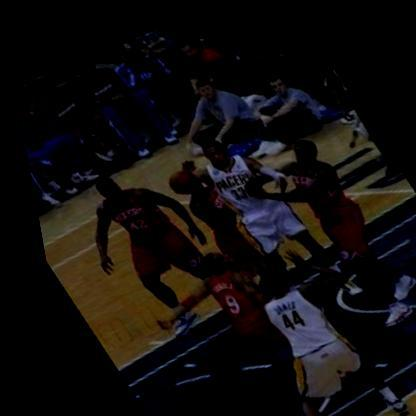basketball: (154, 152, 201, 198)
